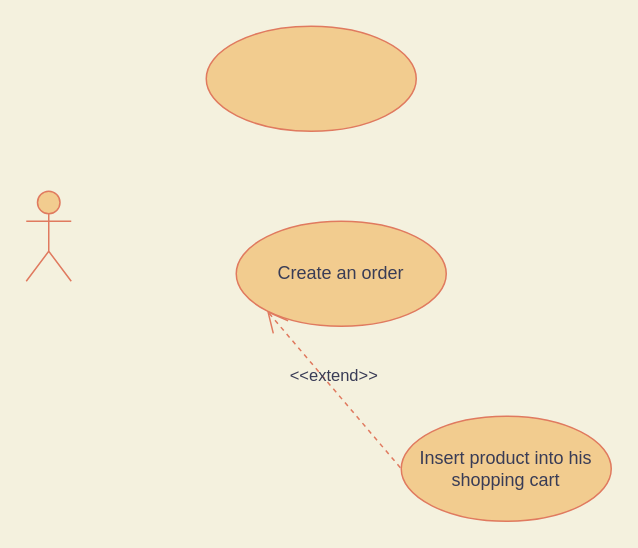
Some shapes in this 638 by 548 pixel diagram are drawn without their labels. Each missing label, with the centre of its shape:
"User" belongs at [48,235].
"View products catalog" belongs at [310,78].
